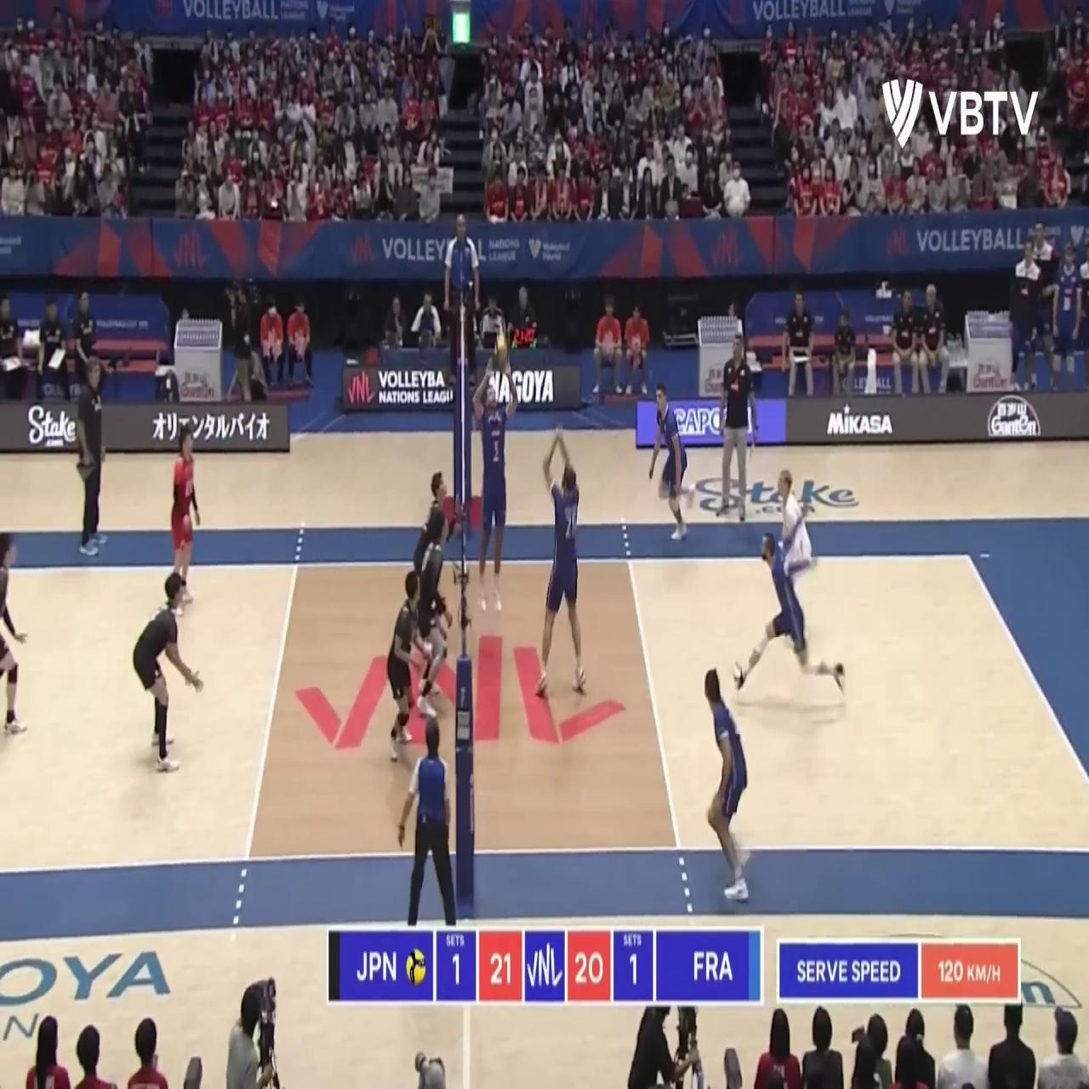ball: (492, 333, 509, 368)
